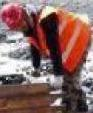hard-hat: (0, 0, 29, 24)
vest: (0, 0, 47, 72)
